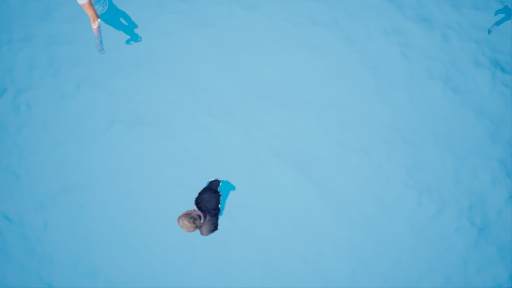person: (169, 174, 252, 250)
